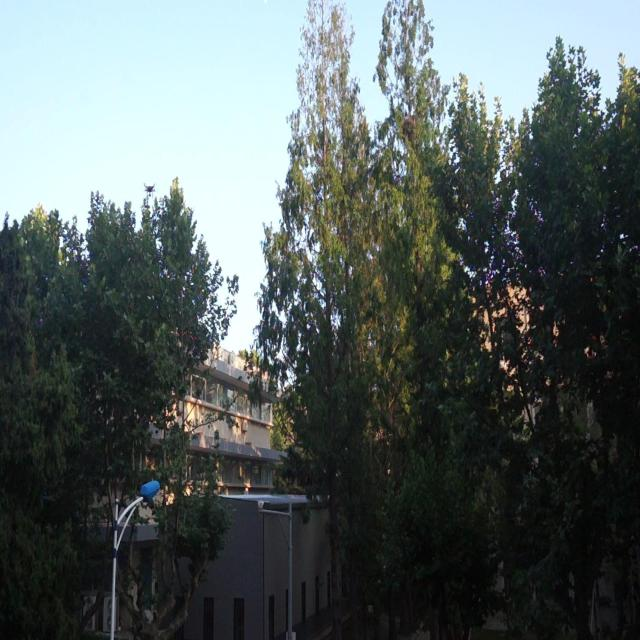drone: (140, 178, 157, 197)
